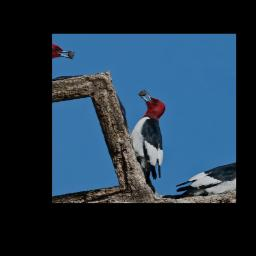Woodpecker: (95, 86, 204, 184)
